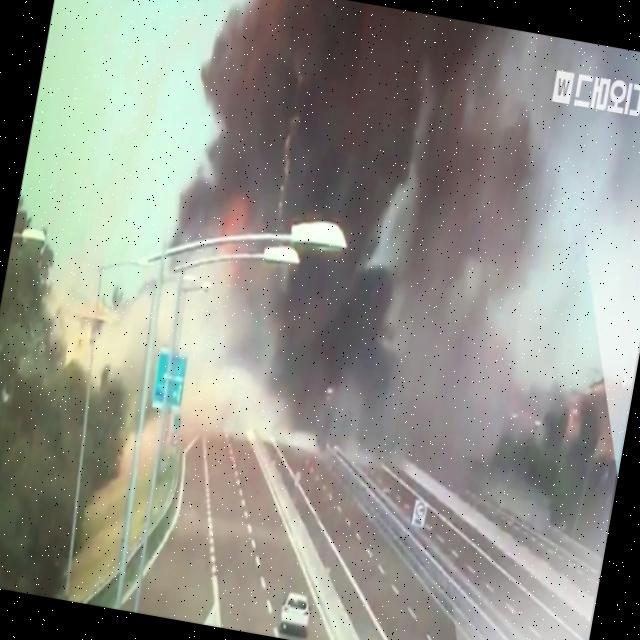explosion: (105, 0, 500, 511)
